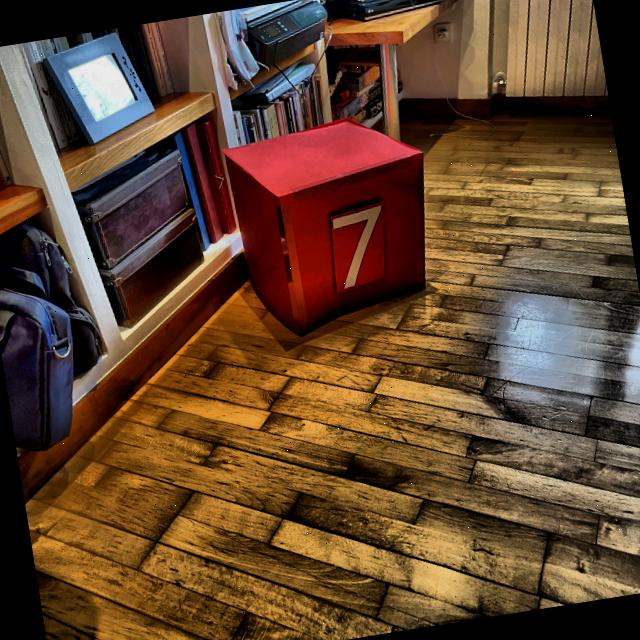seven: (222, 113, 450, 348), (330, 202, 393, 290)
